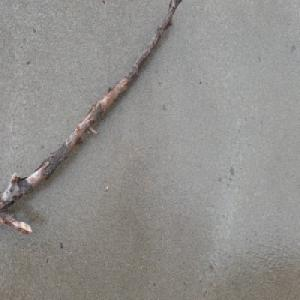Wood: (0, 0, 181, 237)
